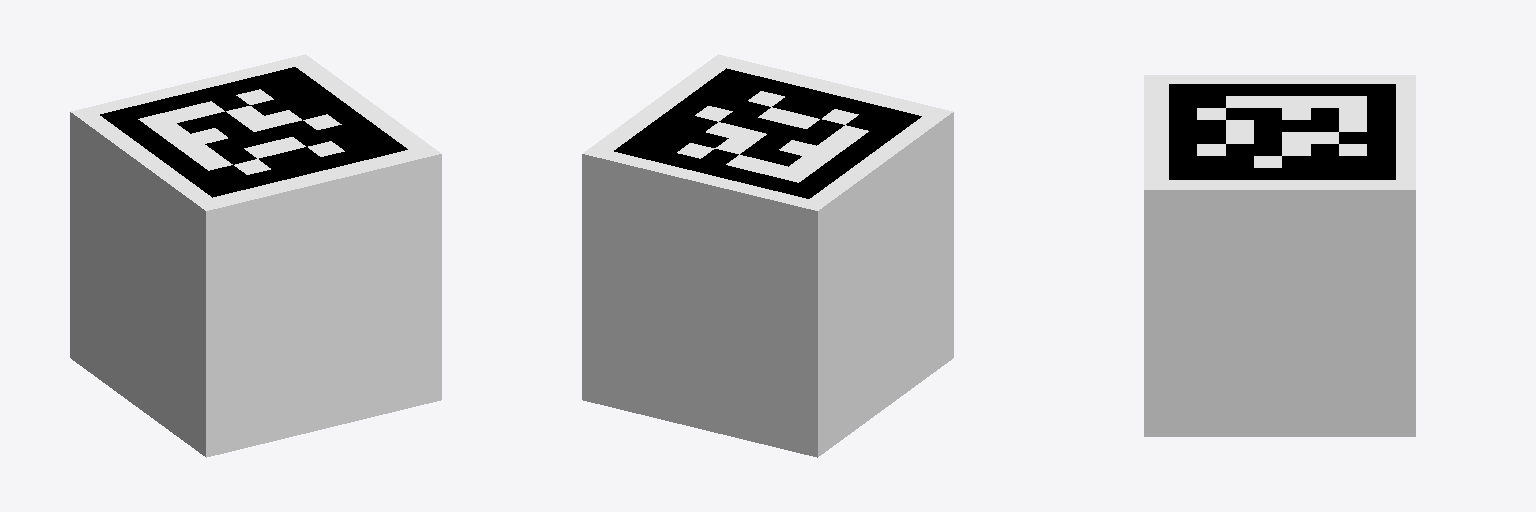
The picture shows the model from 3 angles: view 1: azimuth 30°, elevation 25°; view 2: azimuth 150°, elevation 25°; view 3: azimuth 270°, elevation 25°; orthographic projection.
Parts seen in each view (by area): view 1: Mesh; view 2: Mesh; view 3: Mesh.
Part boxes in pixels (left/top/right/bottom): Mesh: left=70, top=54, right=441, bottom=457; Mesh: left=582, top=54, right=953, bottom=457; Mesh: left=1144, top=75, right=1415, bottom=436.
Size of the model in its own units: 0.08 by 0.08 by 0.08.
Materials: 2 (2 with a texture image).